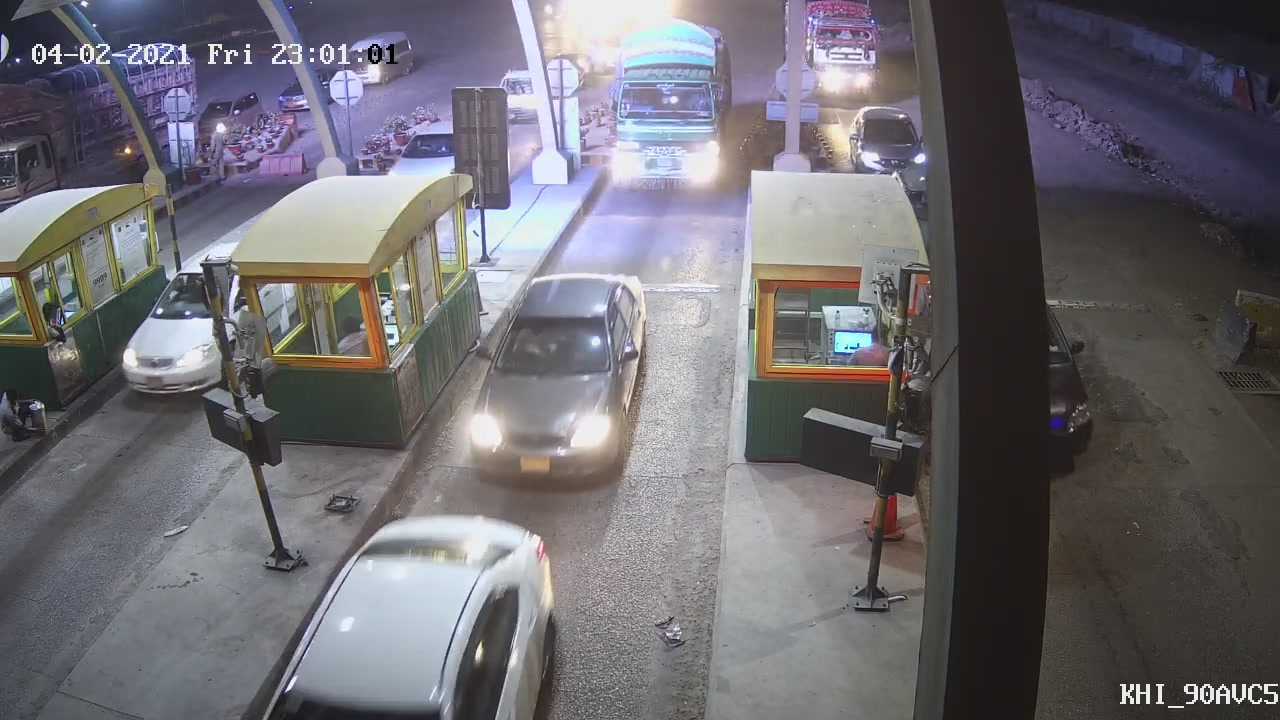F1: (466, 269, 653, 486)
F5: (611, 26, 730, 196)
